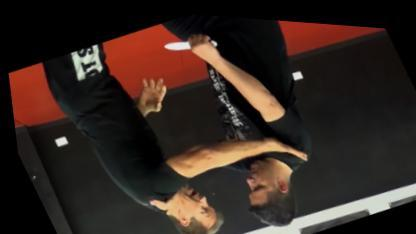knife: (156, 20, 222, 64)
